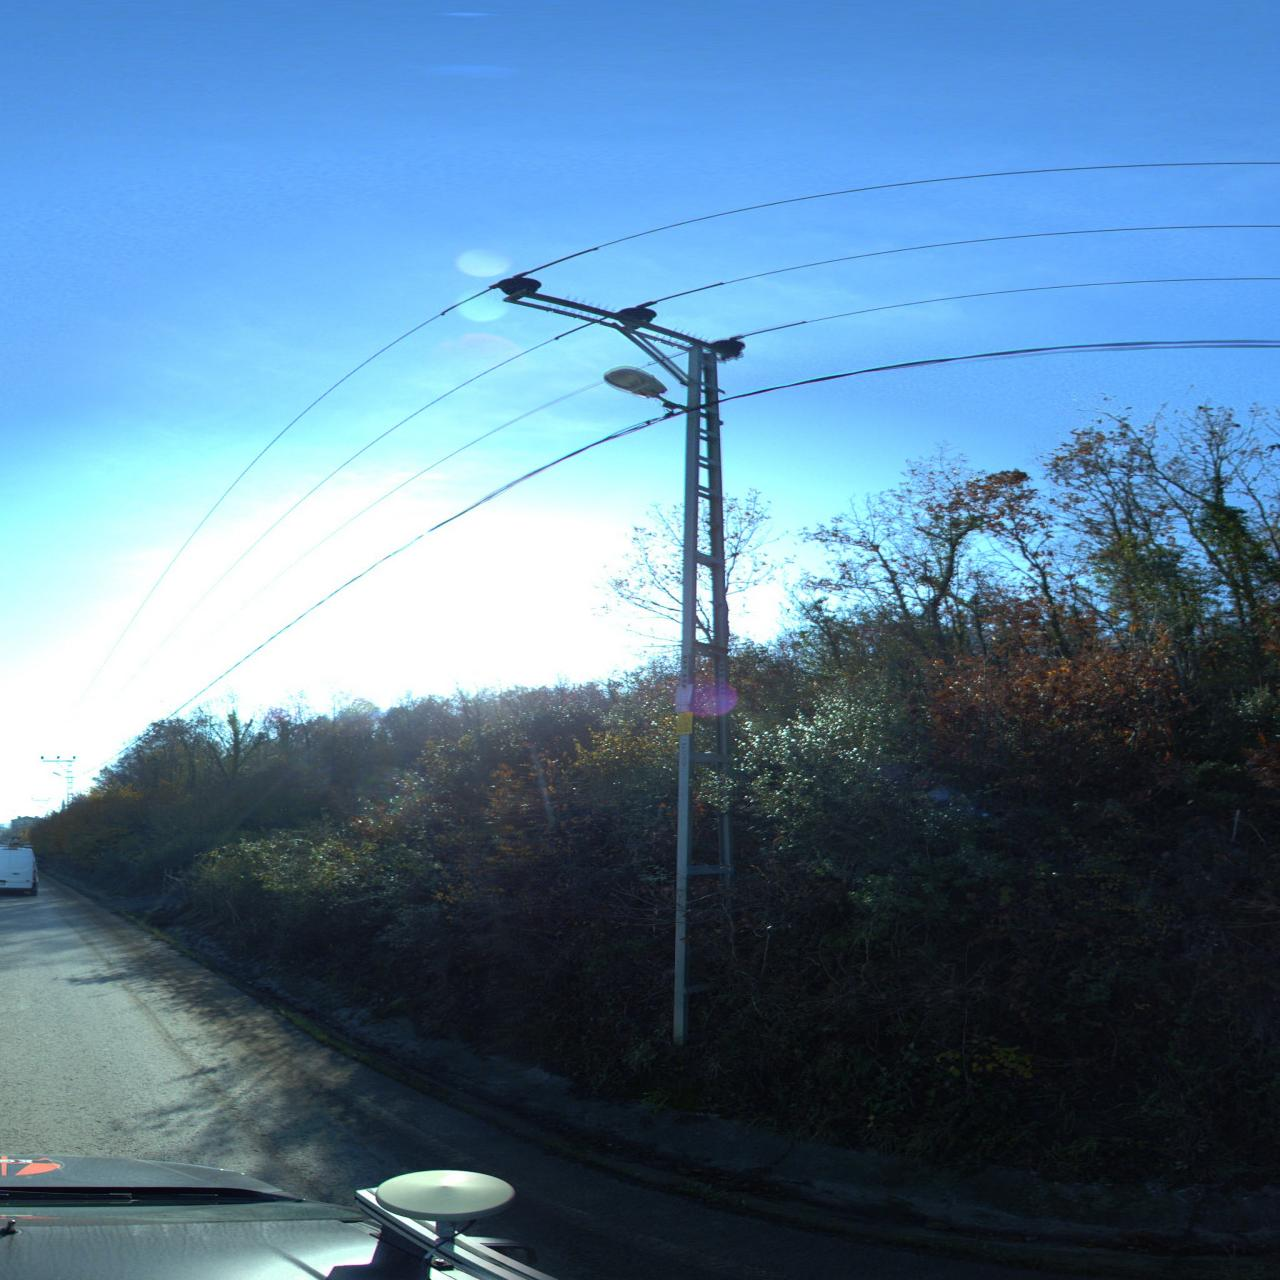Utility Pole Information Plate: (675, 712, 693, 735), (675, 685, 694, 704)
